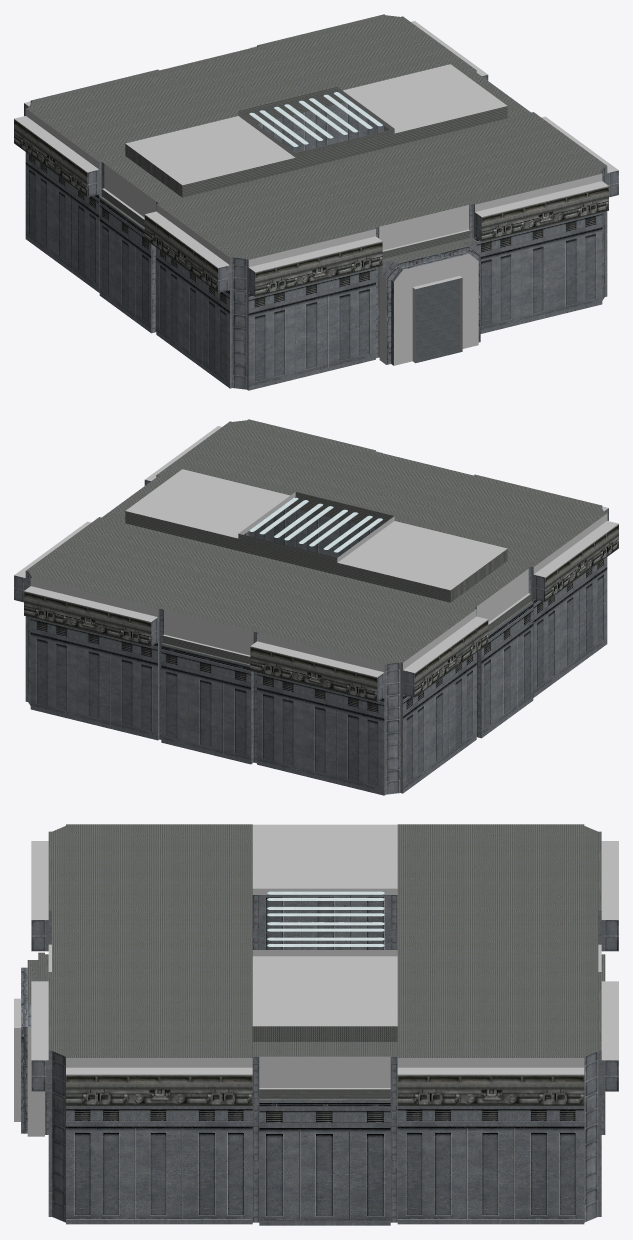
Rendered from poi_all_impl_bunker_warren_s01_r64_smallroom64_mesh_r64.fbx.
3 renders of one model, top to bottom at view 1: azimuth 30°, elevation 25°; view 2: azimuth 150°, elevation 25°; view 3: azimuth 270°, elevation 25°, orthographic. The views are drawn at different scales.
Parts seen in each view (by area): view 1: mesh_node; view 2: mesh_node; view 3: mesh_node.
Part boxes in pixels (left/top/right/bottom): mesh_node: left=14, top=14, right=618, bottom=390; mesh_node: left=14, top=419, right=618, bottom=795; mesh_node: left=14, top=824, right=618, bottom=1225.
Size of the model in its own units: 17 by 6 by 17.5.
